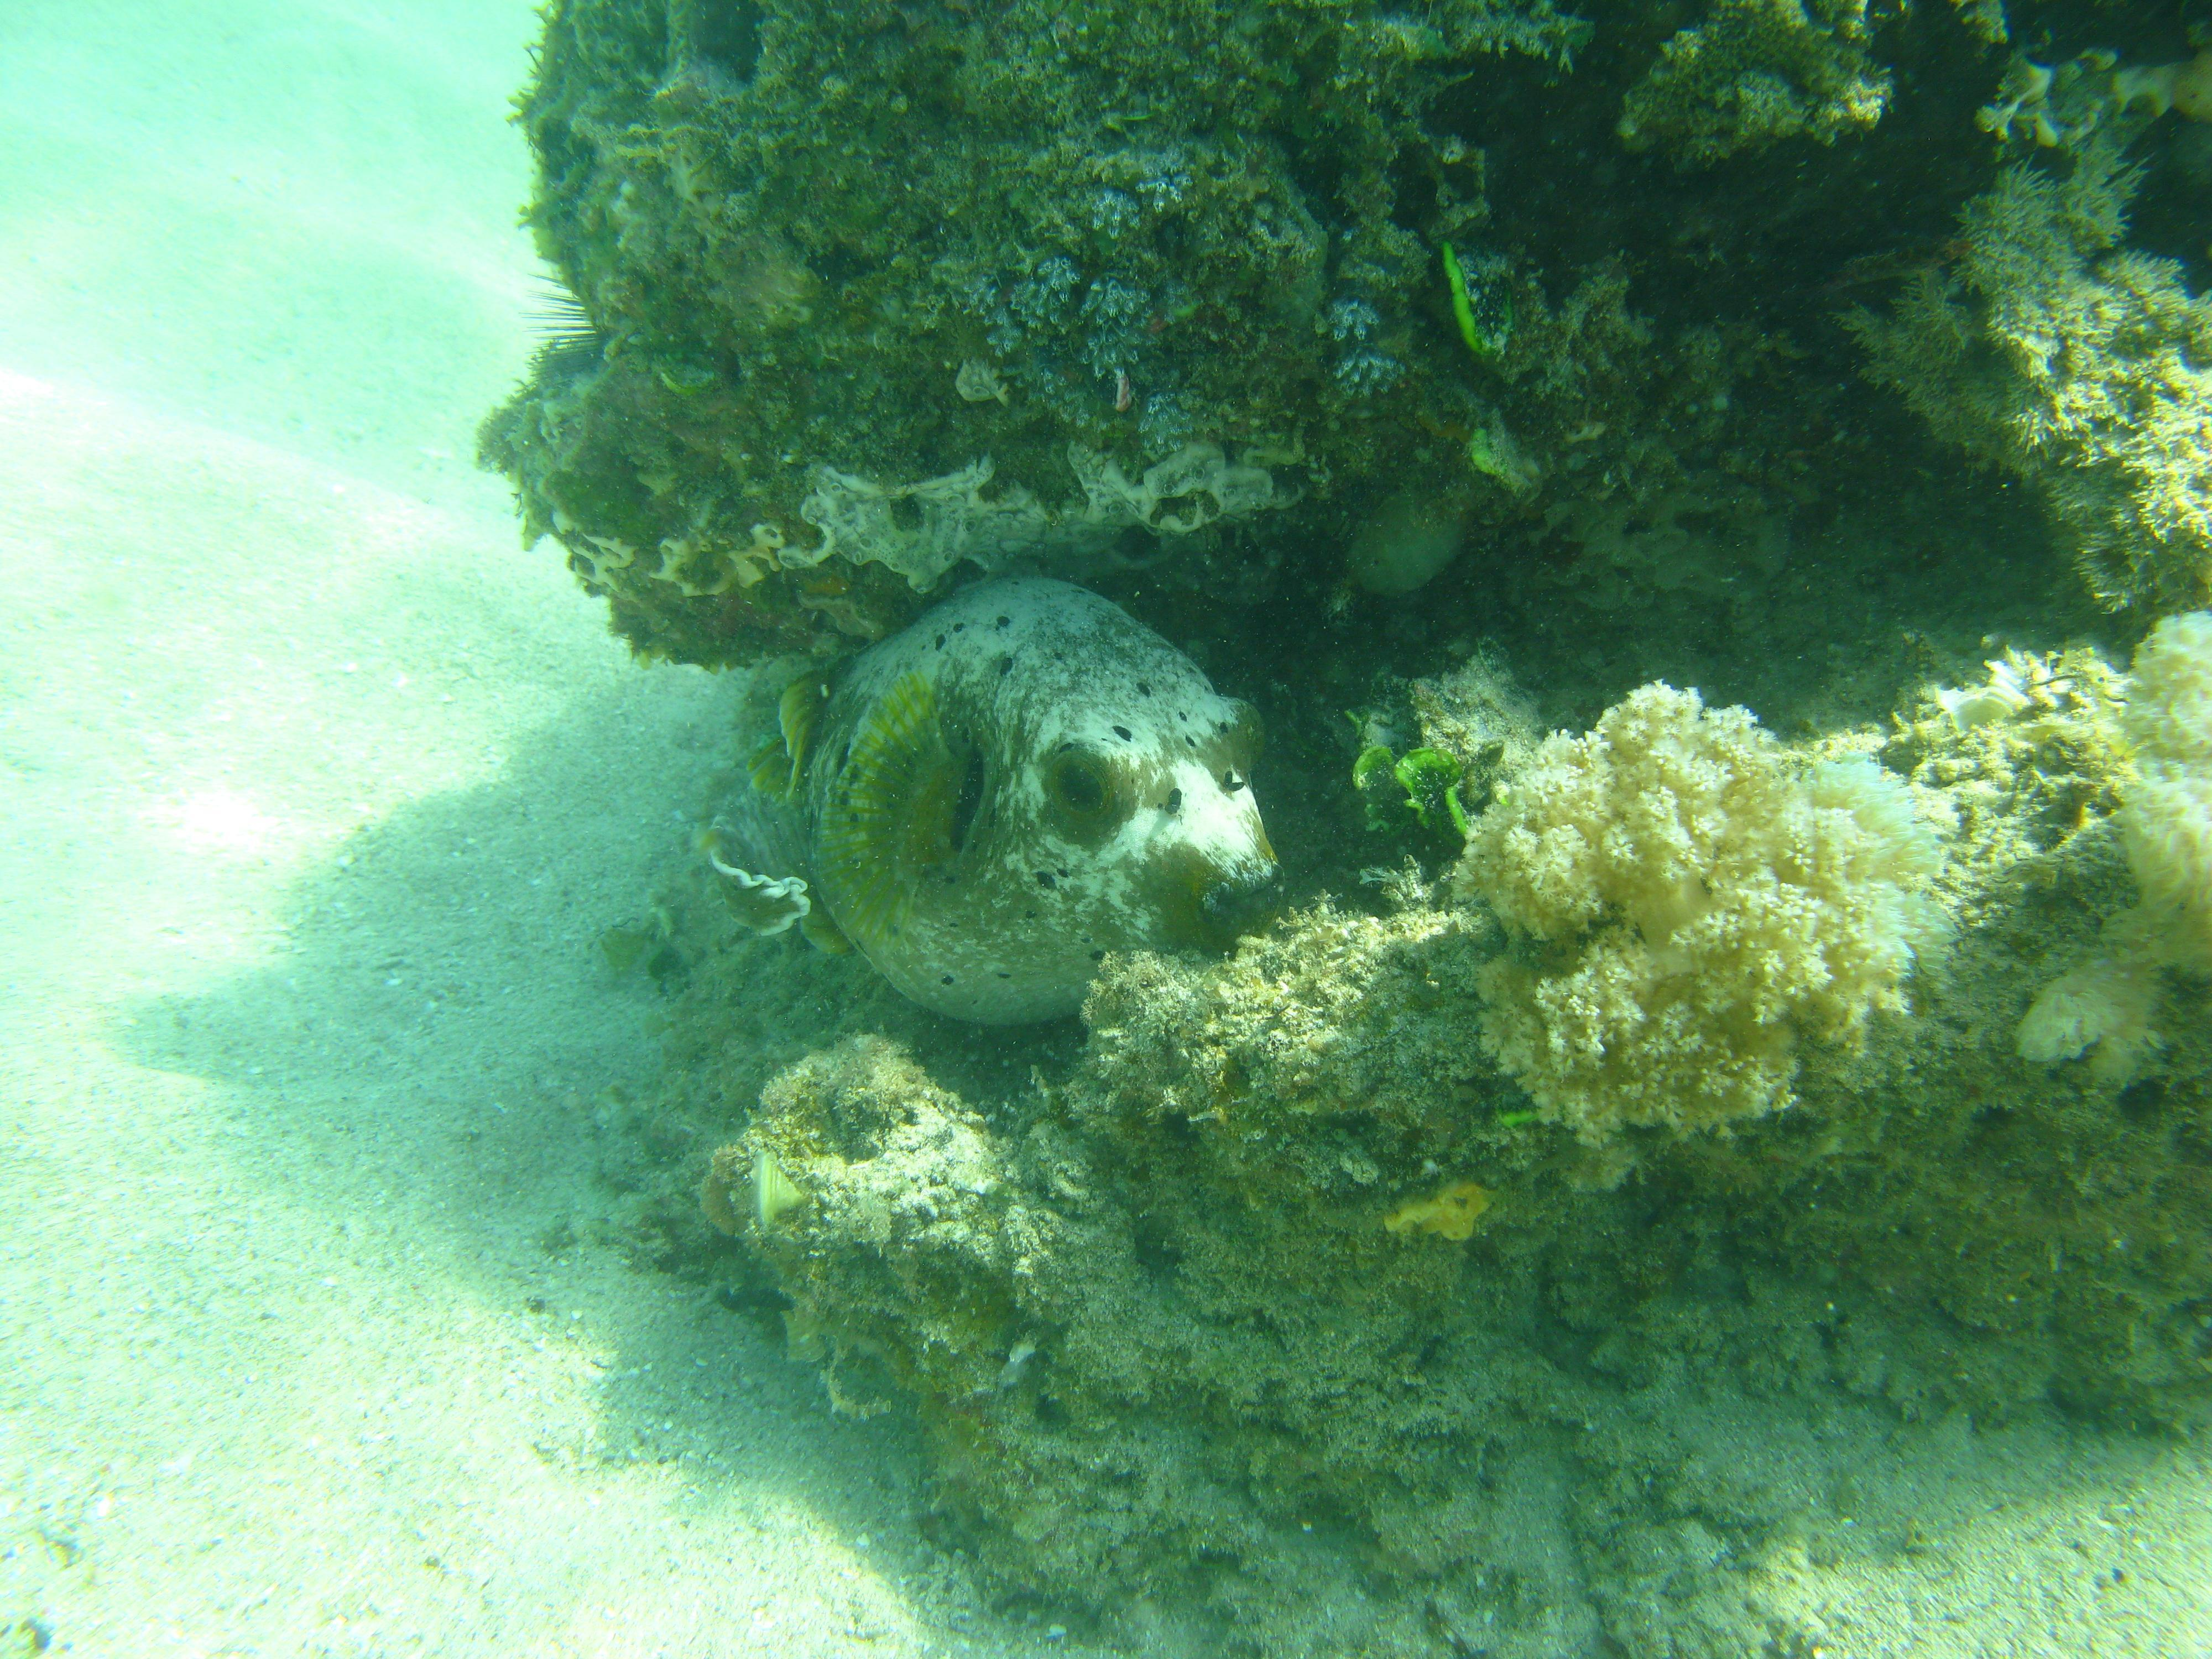Fish: (660, 491, 1426, 1087)
